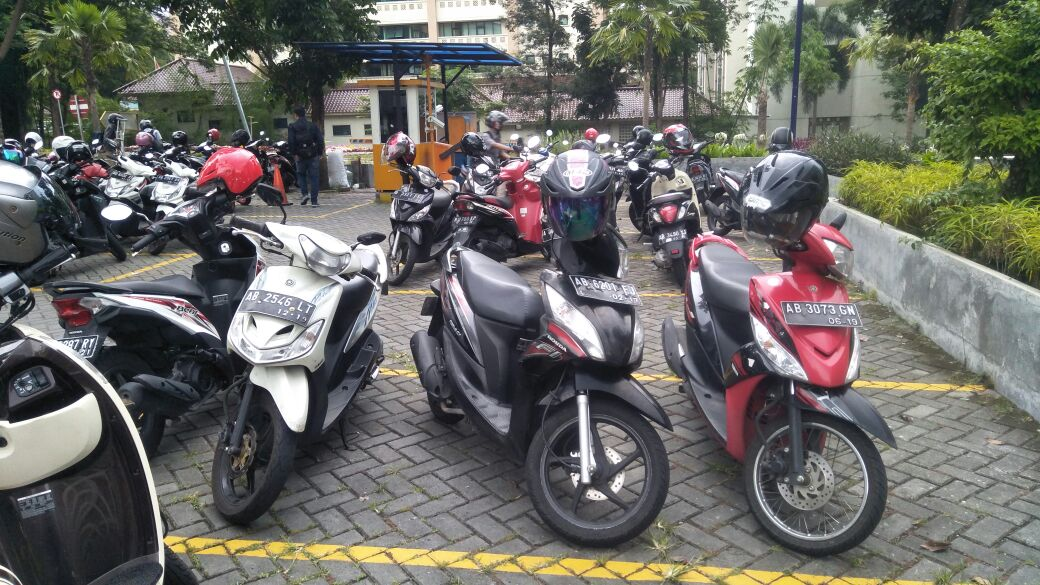plate: (237, 291, 317, 328), (568, 273, 643, 308), (781, 299, 865, 328)
